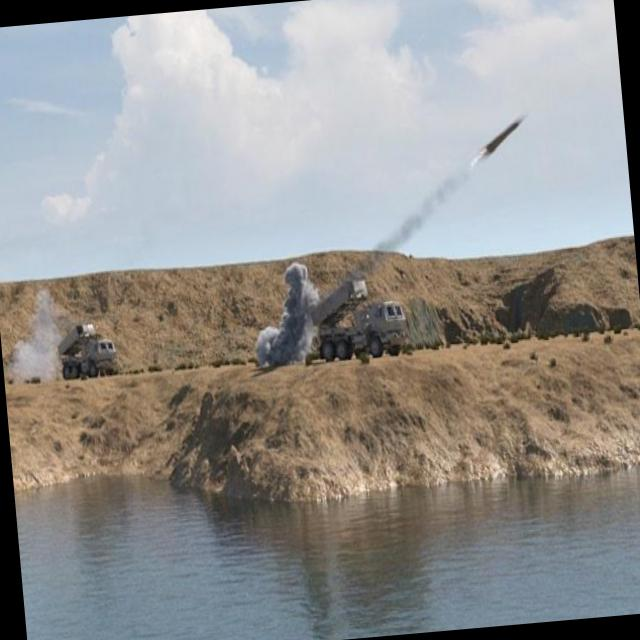rocket: (429, 106, 539, 213)
